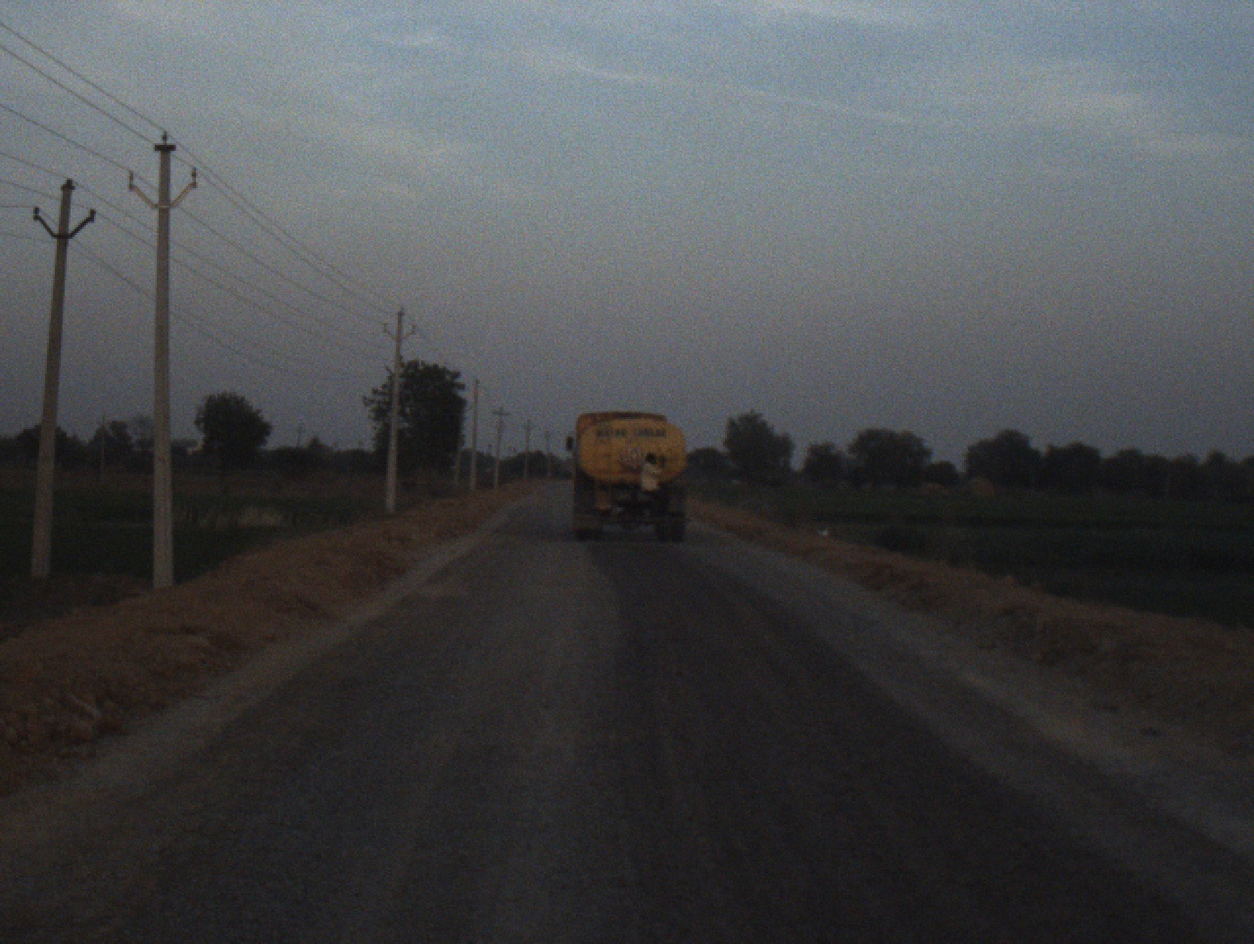truck: (558, 404, 694, 545)
